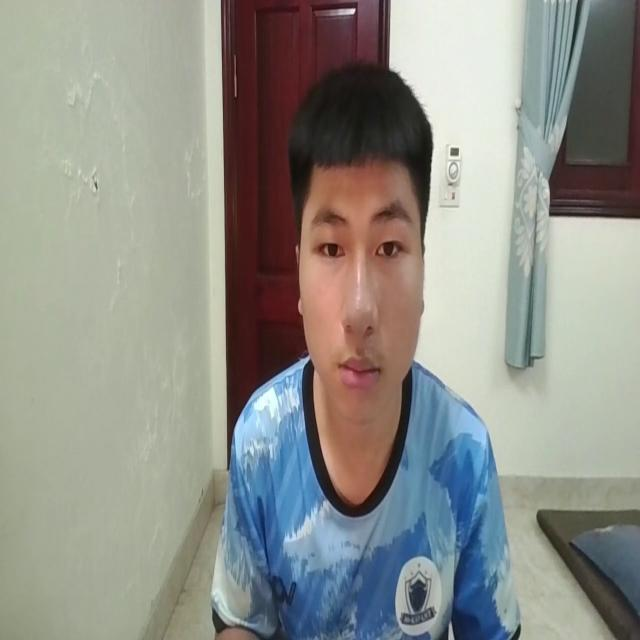student: (203, 59, 520, 640)
